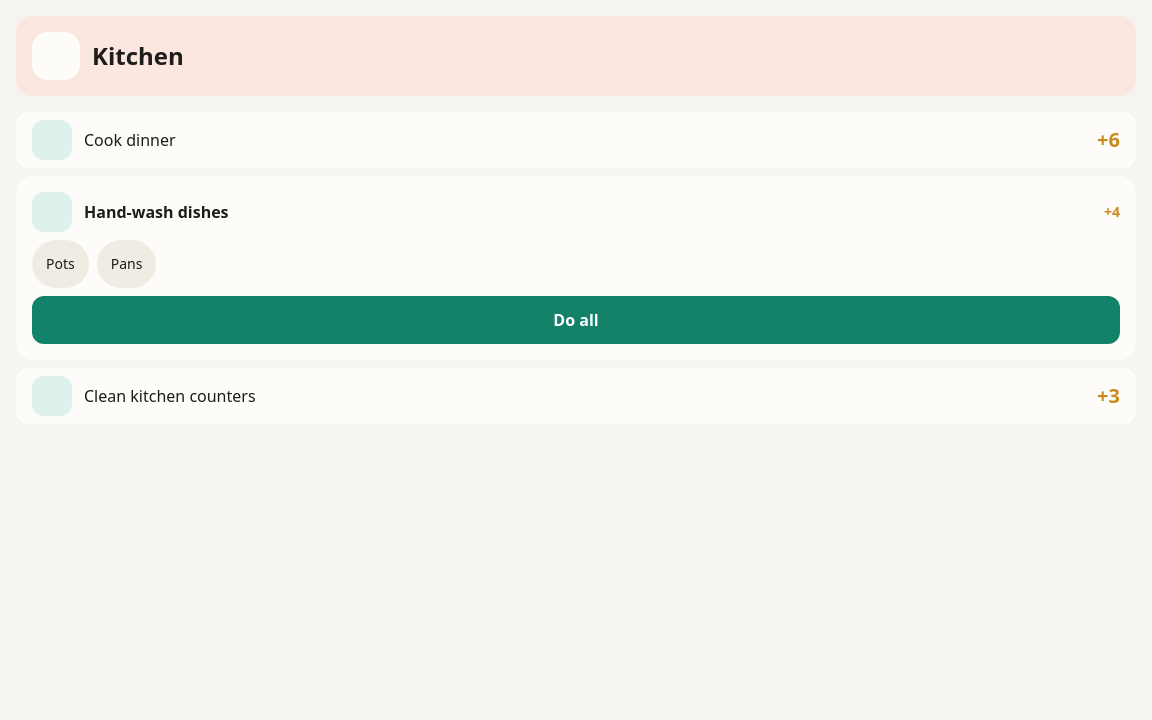
CategoryScreen › tapping a plain TaskButton opens the Next time sheet, preselected from the task
Click the button with test id "task-button" showing "Cook dinner +6" at [52, 140], box [16,112,1136,168]
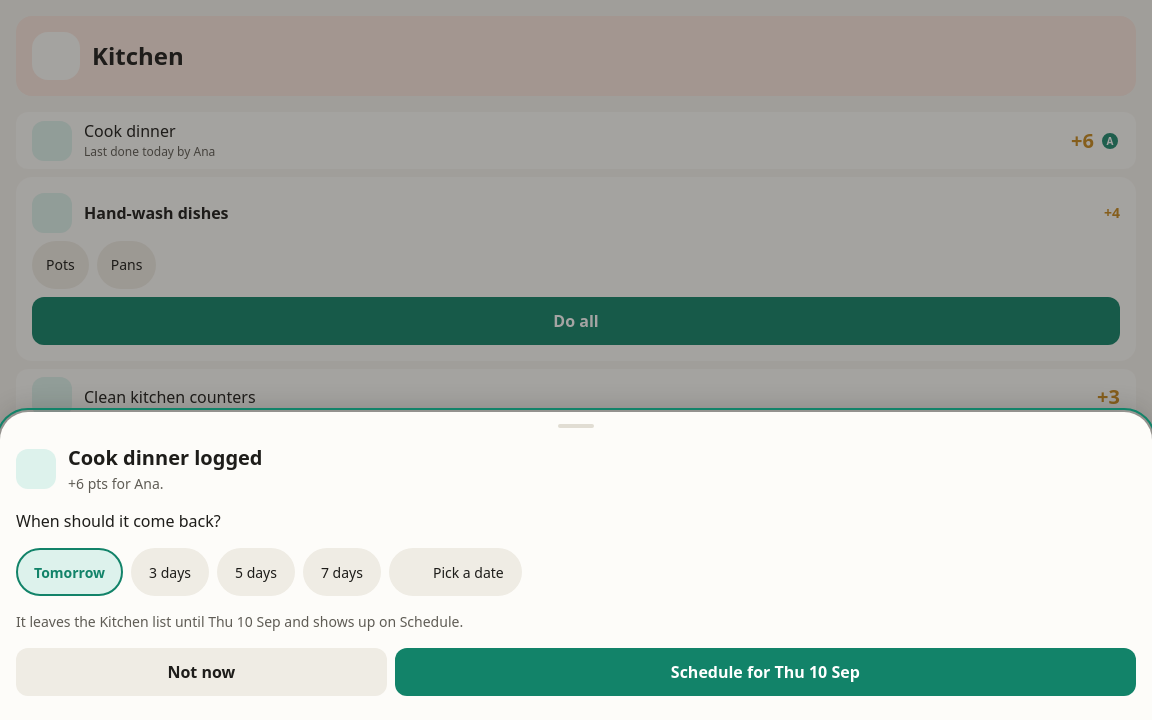
Expected: the dialog shows "Cook dinner logged", [68,444,262,471]
